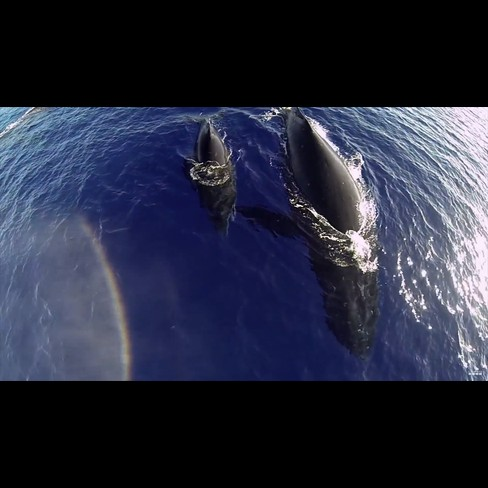hump: (241, 106, 387, 364), (179, 109, 241, 239)
